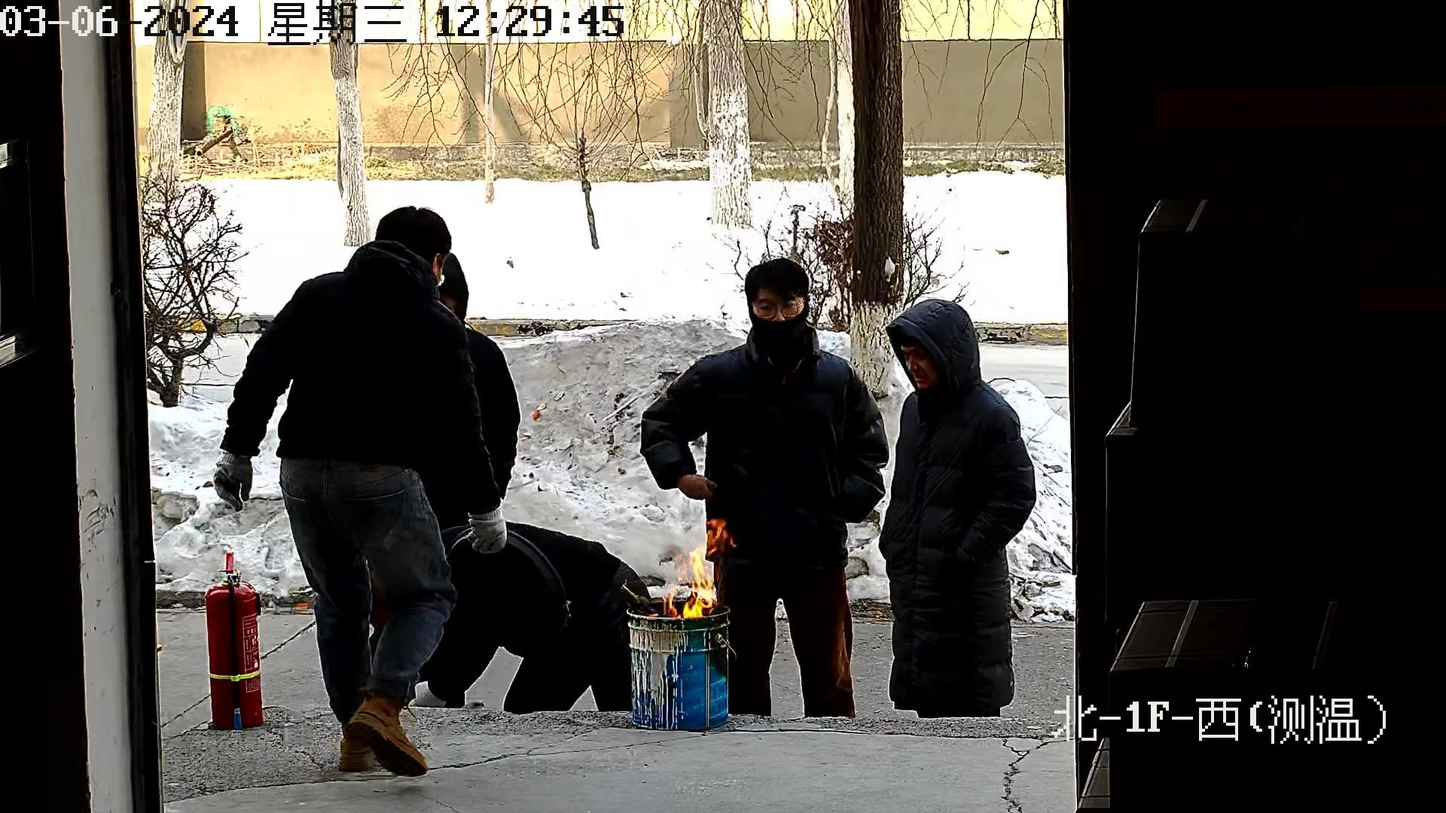fire: (663, 519, 731, 619)
